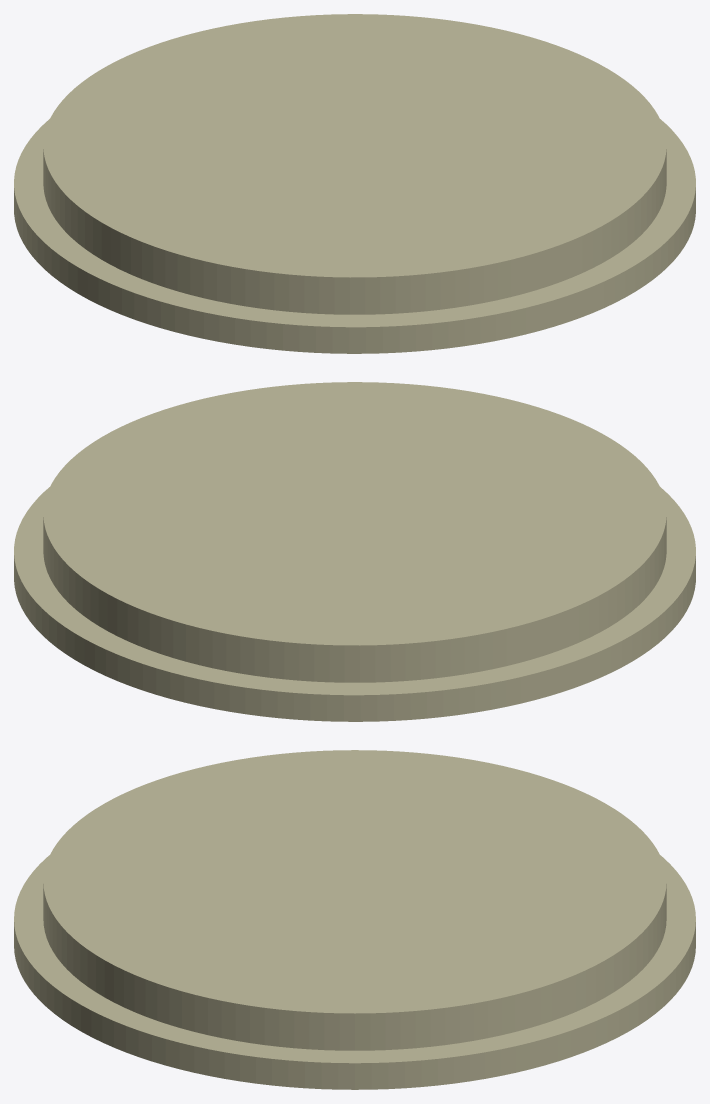
Rendered from biology--pale-limestone.glb.
The picture shows the model from 3 angles, top to bottom: view 1: azimuth 30°, elevation 25°; view 2: azimuth 150°, elevation 25°; view 3: azimuth 270°, elevation 25°; orthographic projection.
Parts seen in each view (by area): view 1: biology; view 2: biology; view 3: biology.
Part boxes in pixels (x1,y1,x2,y2): biology: (14,14,695,353); biology: (14,382,695,721); biology: (14,750,695,1089).
Bounding box in the file's own units: 2.32 × 0.24 × 2.32.
